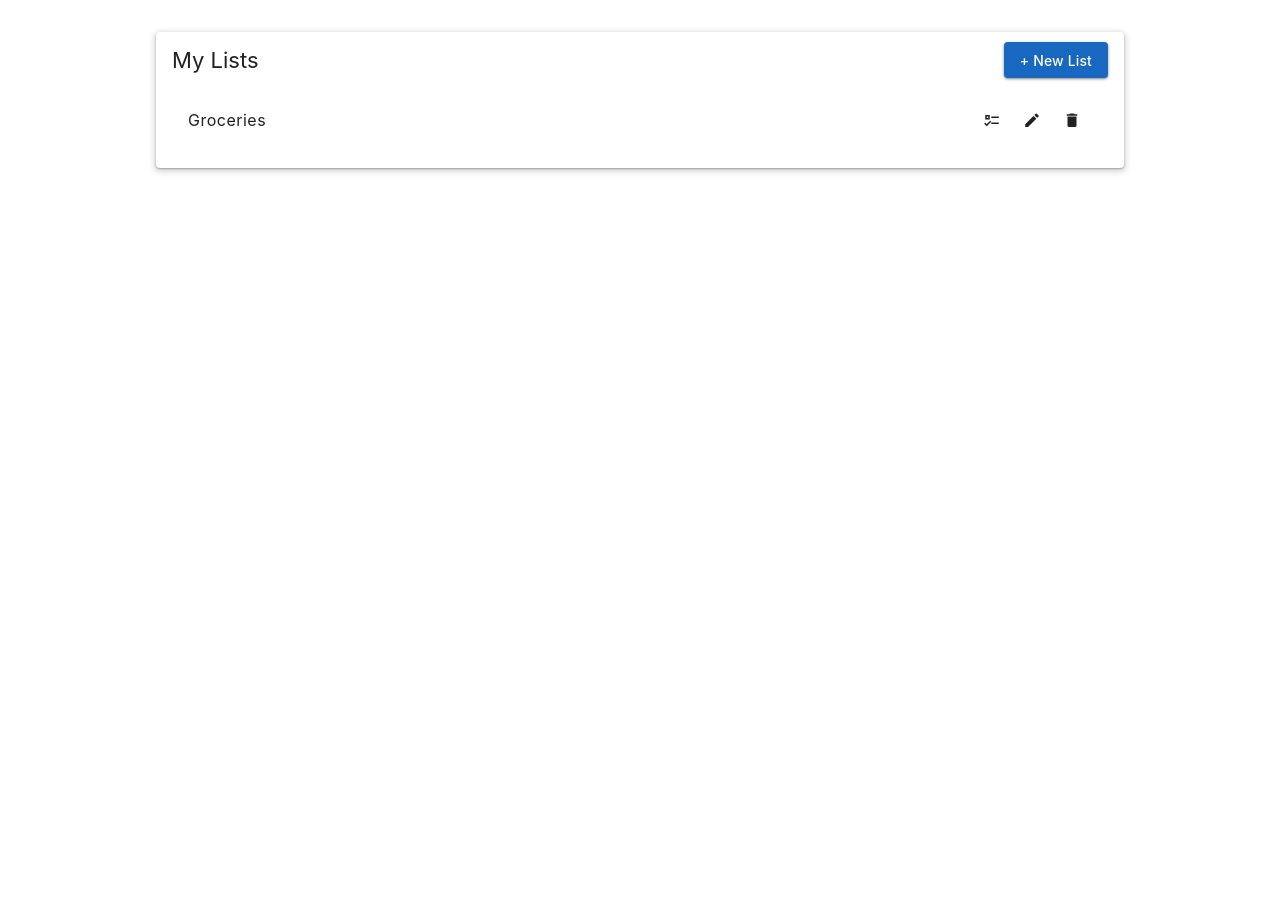
it: Feature 2 — Dashboard lists view › US-2.4 — Rename and delete lists › User renames a list
Click the button named "Edit list": click(1032, 120) [1012, 100, 1052, 140]
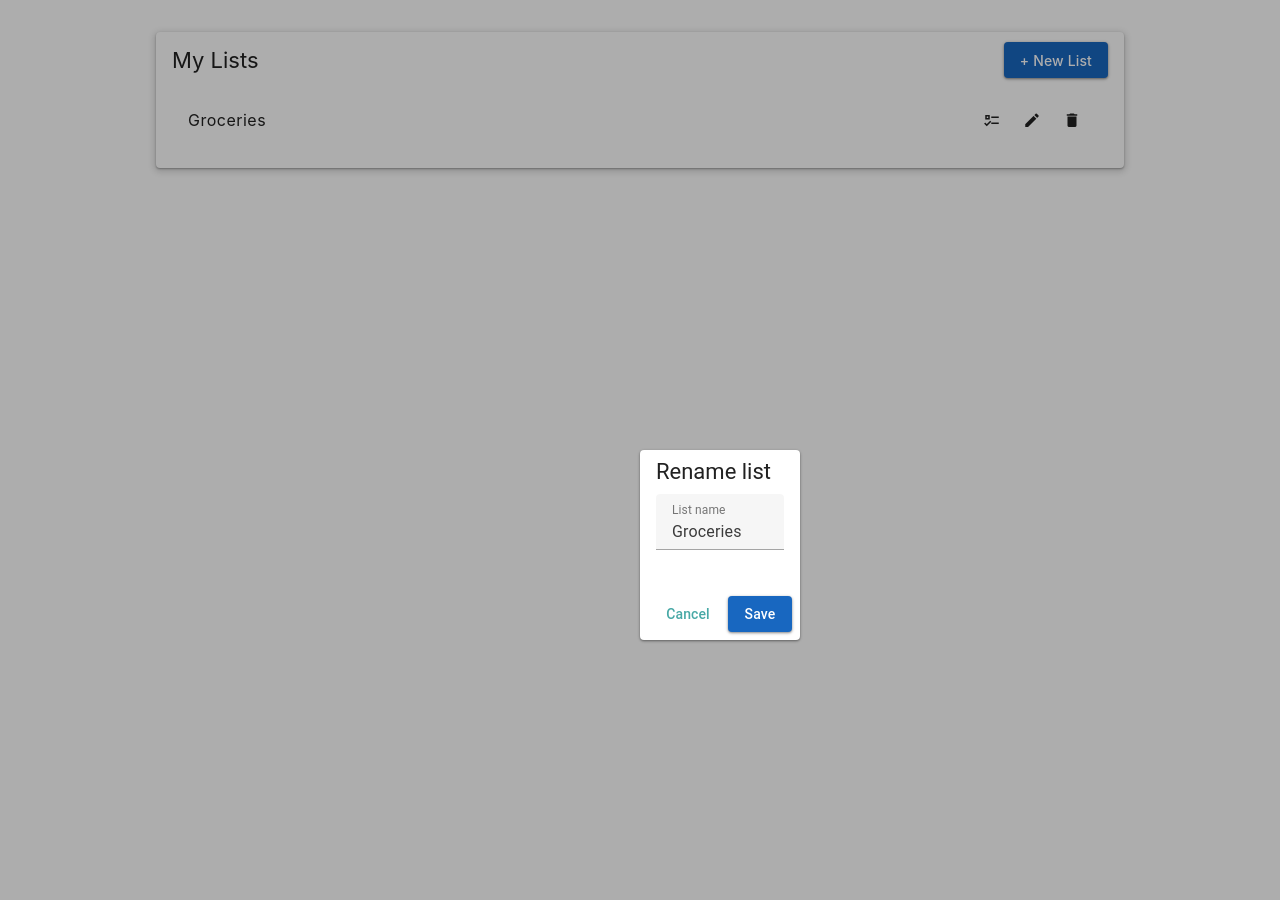
Replace the text in the field named "renameListName" with "Shopping": (720, 522) [656, 494, 784, 550]
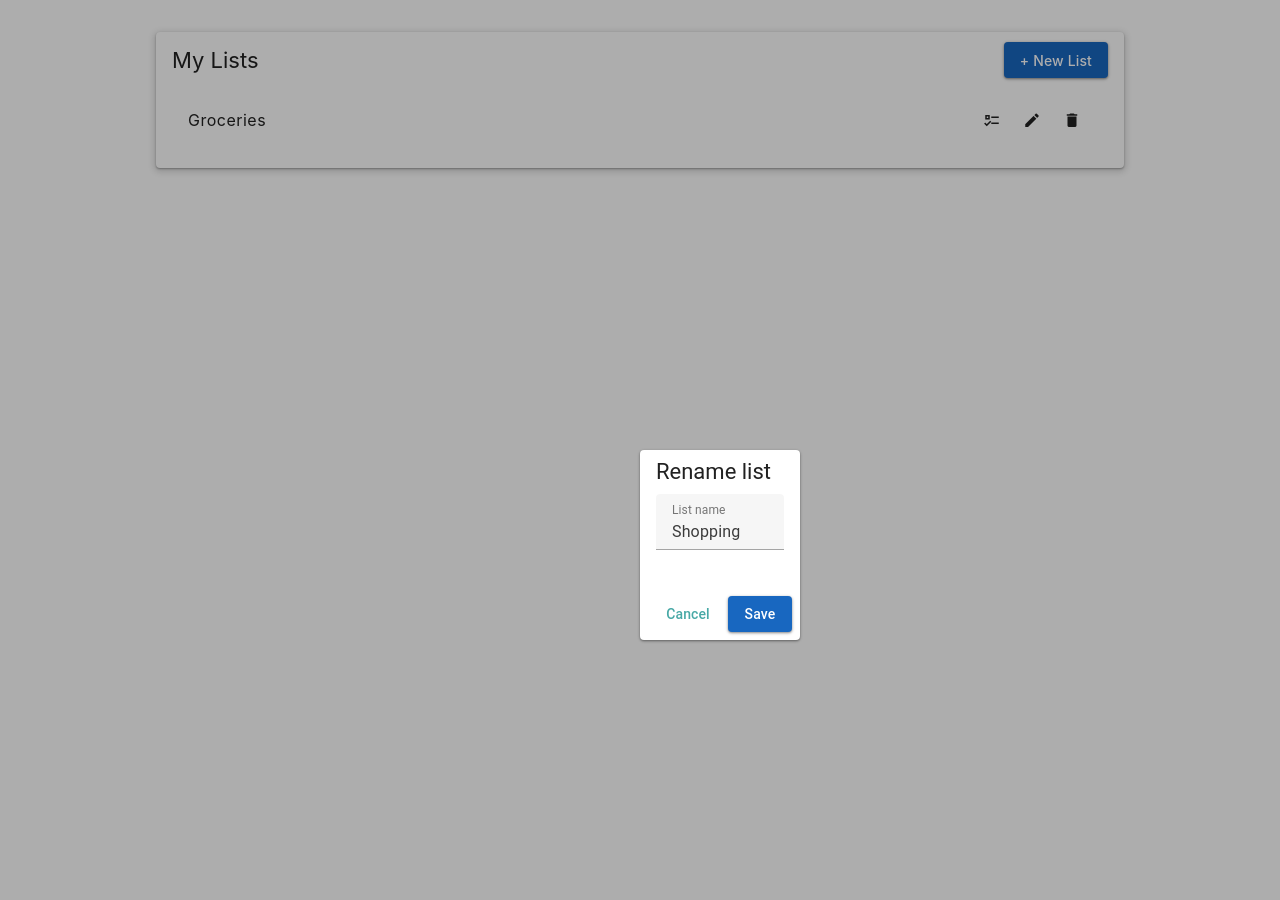
Check: the button "Save" is shown
Click the button "Save": click(760, 614) [728, 596, 792, 632]
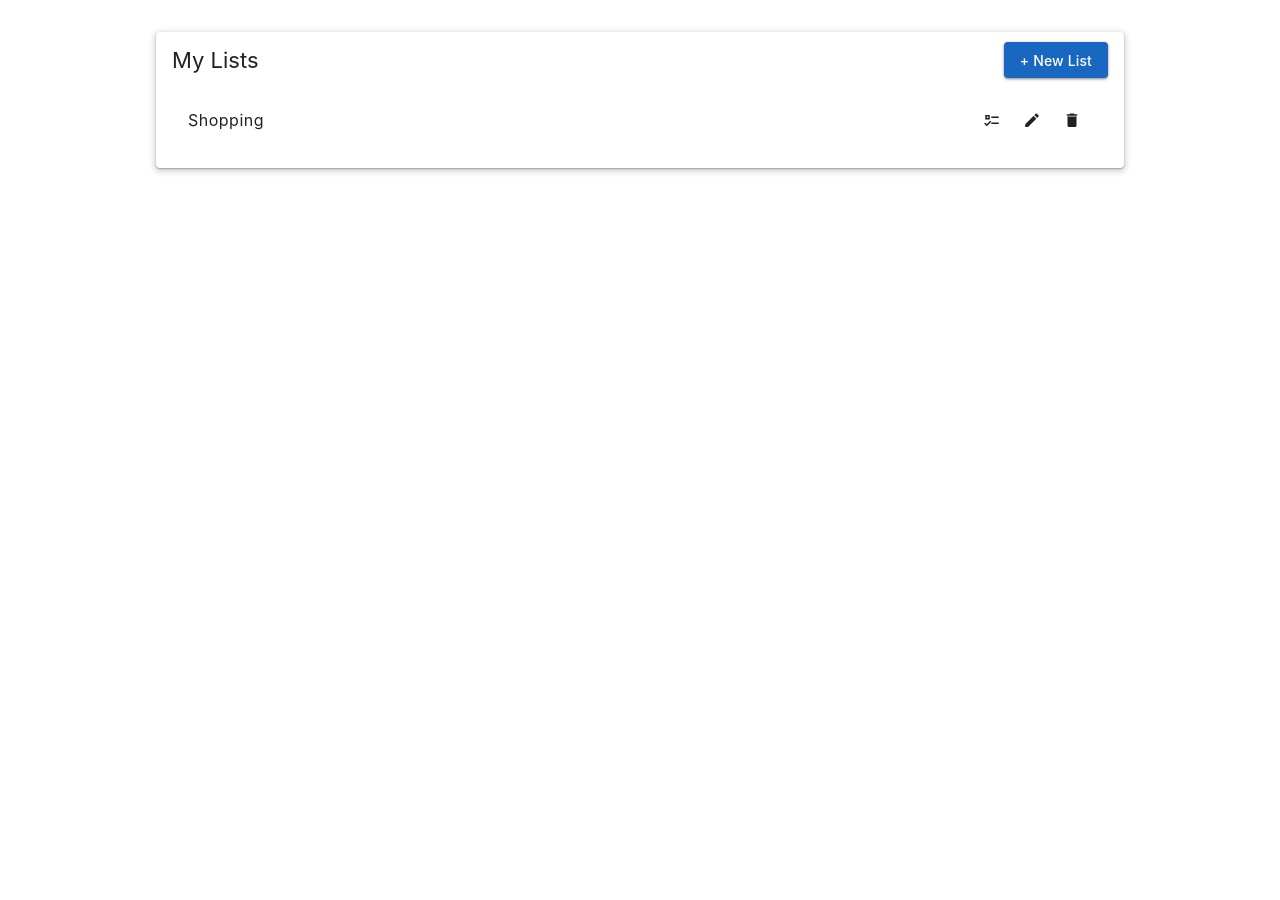
Check: the text "Shopping" is shown, box [188, 110, 264, 130]
Check: the text "Groceries" is gone
